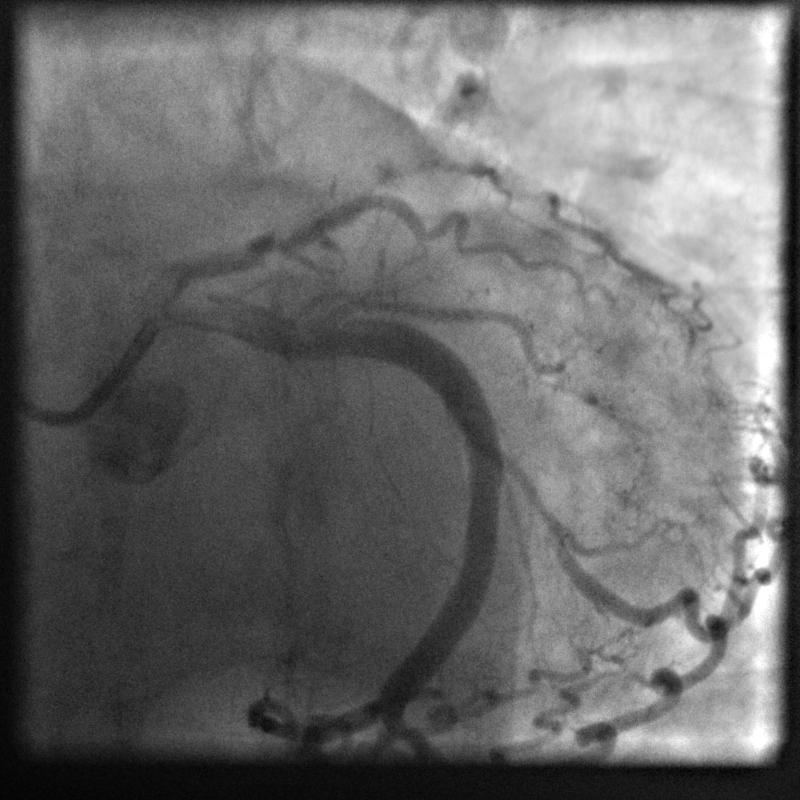Stenosis: (491, 420, 581, 561)
